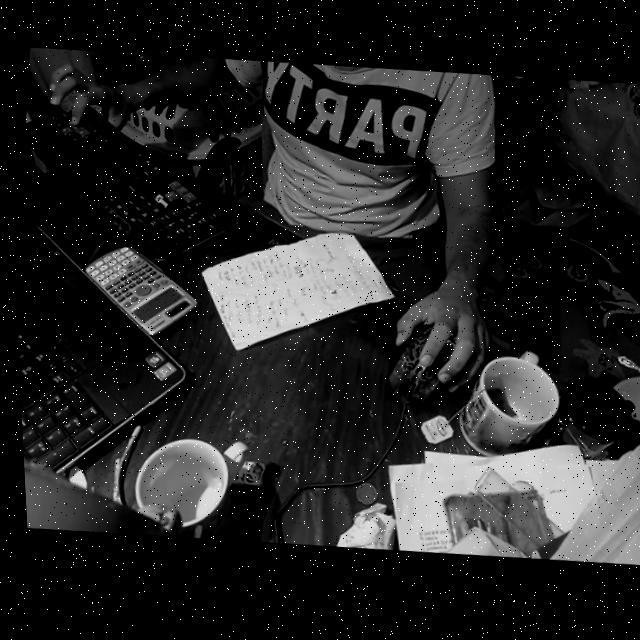document: (200, 234, 394, 350)
